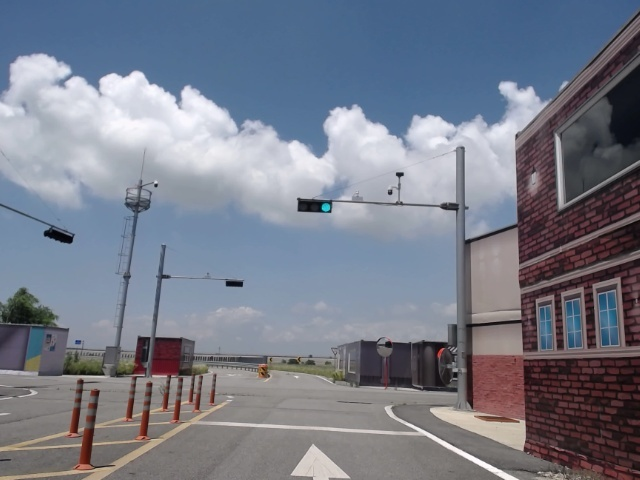green_3: (299, 201, 331, 212)
